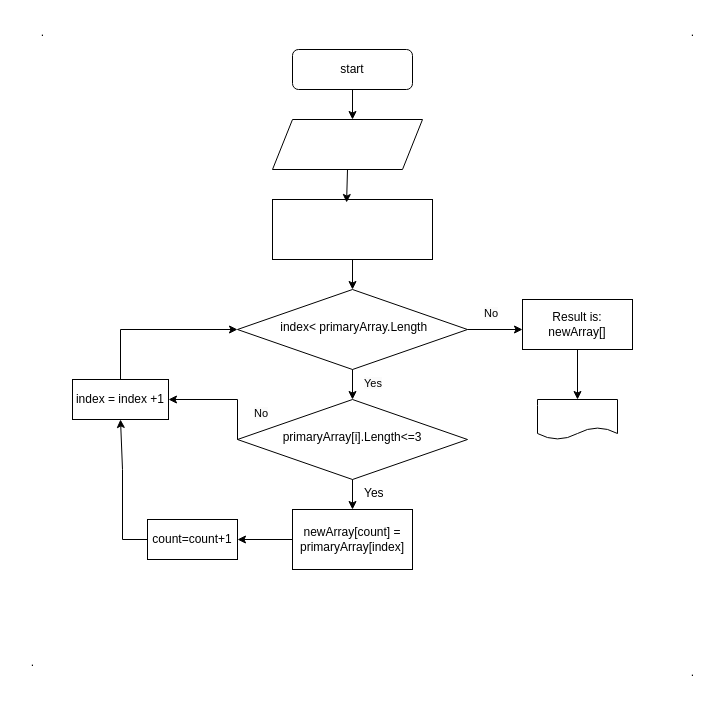
Some shapes in this 724 by 704 pixel diagram are drawn without their labels. Each missing label, with the centre of its shape:
Finish: pixel 577 419
string[] newArray int count = 0 int index = 0: pixel 352 229
string[] primaryArray: pixel 347 144
